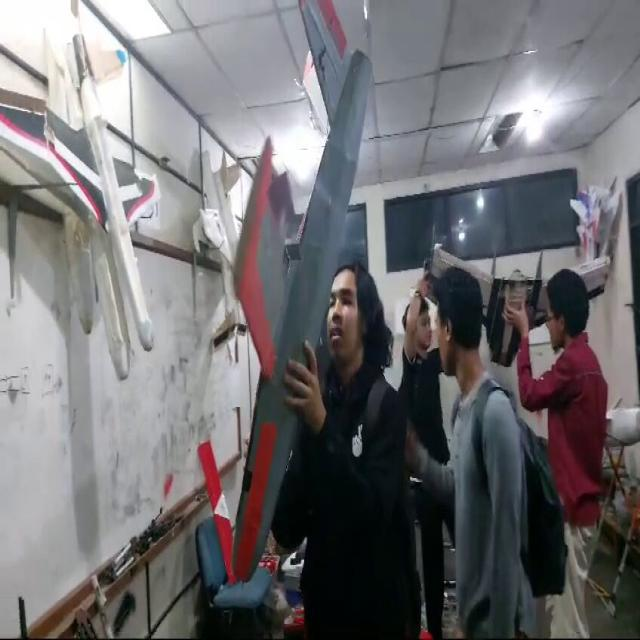plane: (206, 0, 390, 590)
